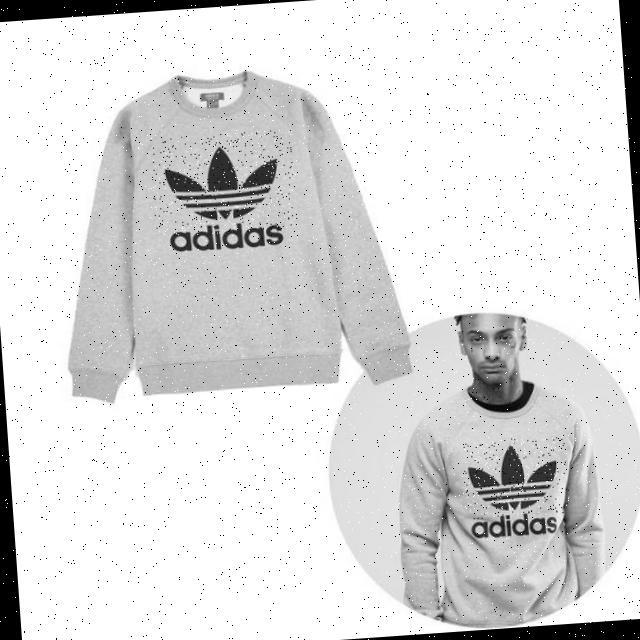Adidas: (149, 129, 298, 238), (461, 435, 570, 520)
